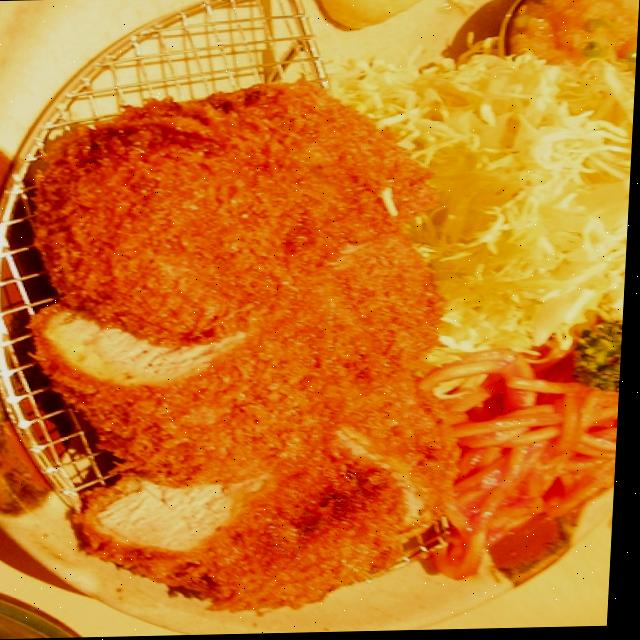牛肉菜式: (0, 26, 617, 637)
